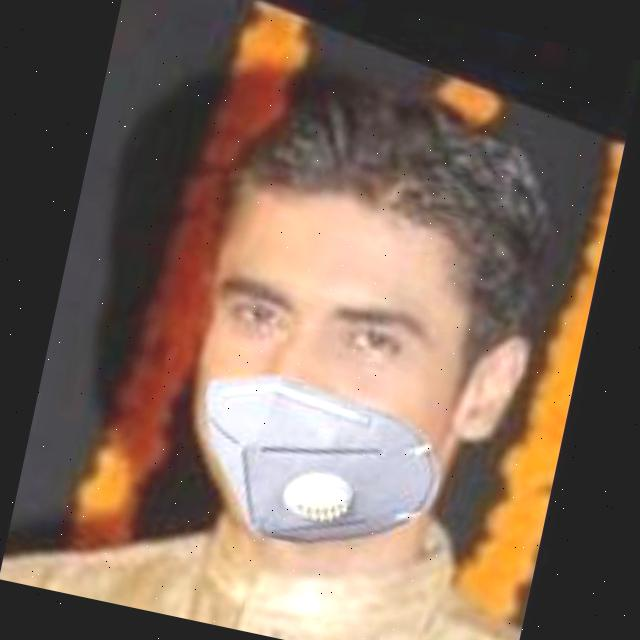suspicion: (162, 81, 570, 579)
